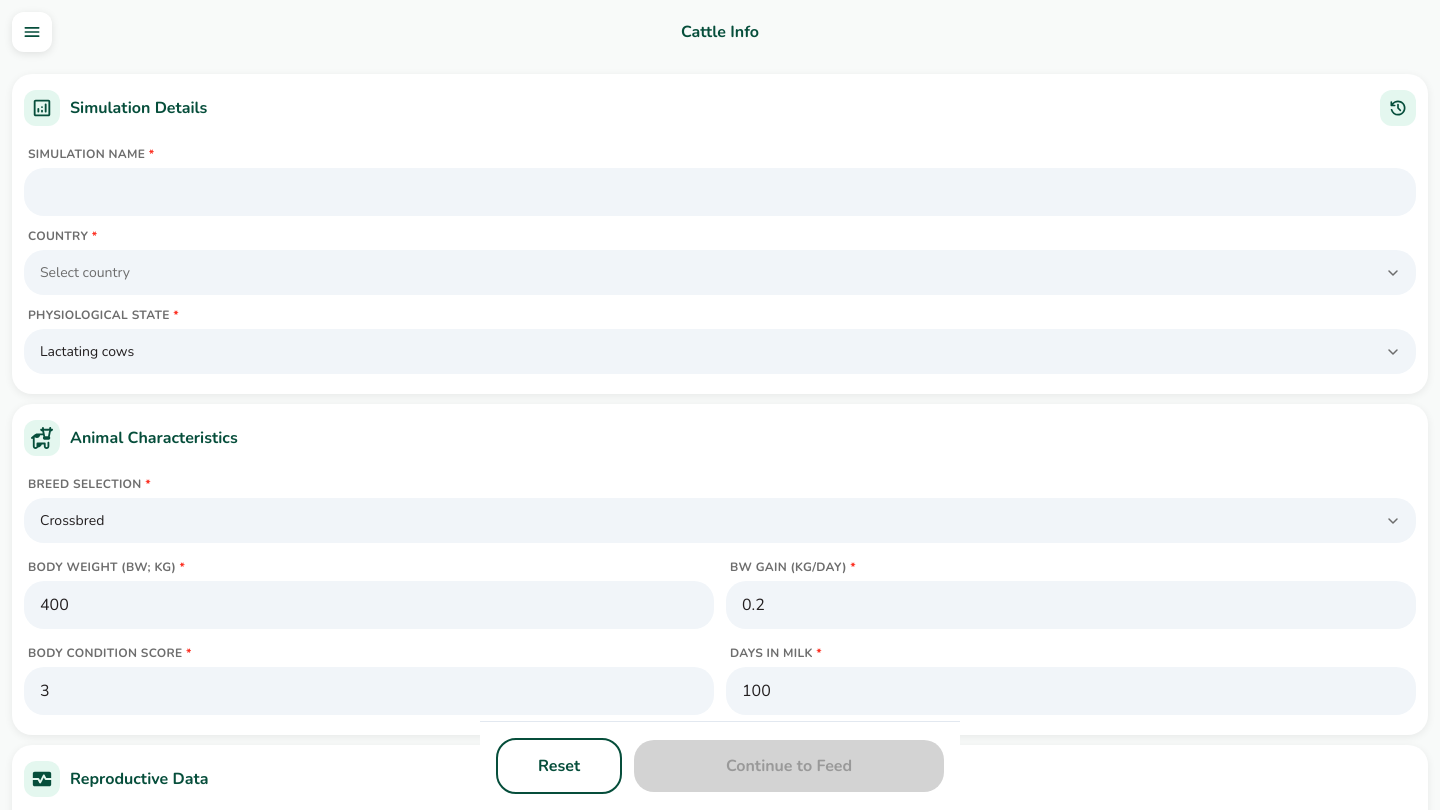
Cattle Info — field validation handlers › handleBodyWeight: flags out-of-range against the spec (Lactating 250-720) but keeps the typed value, clears the error back in range
Expected: the button named "Simulation history" is shown, x1=1380 y1=90 x2=1416 y2=126
Step 1. Replace the text in the number field labelled "Body Weight (BW; kg) *" with "800" → (369,605), box x1=24 y1=581 x2=714 y2=629
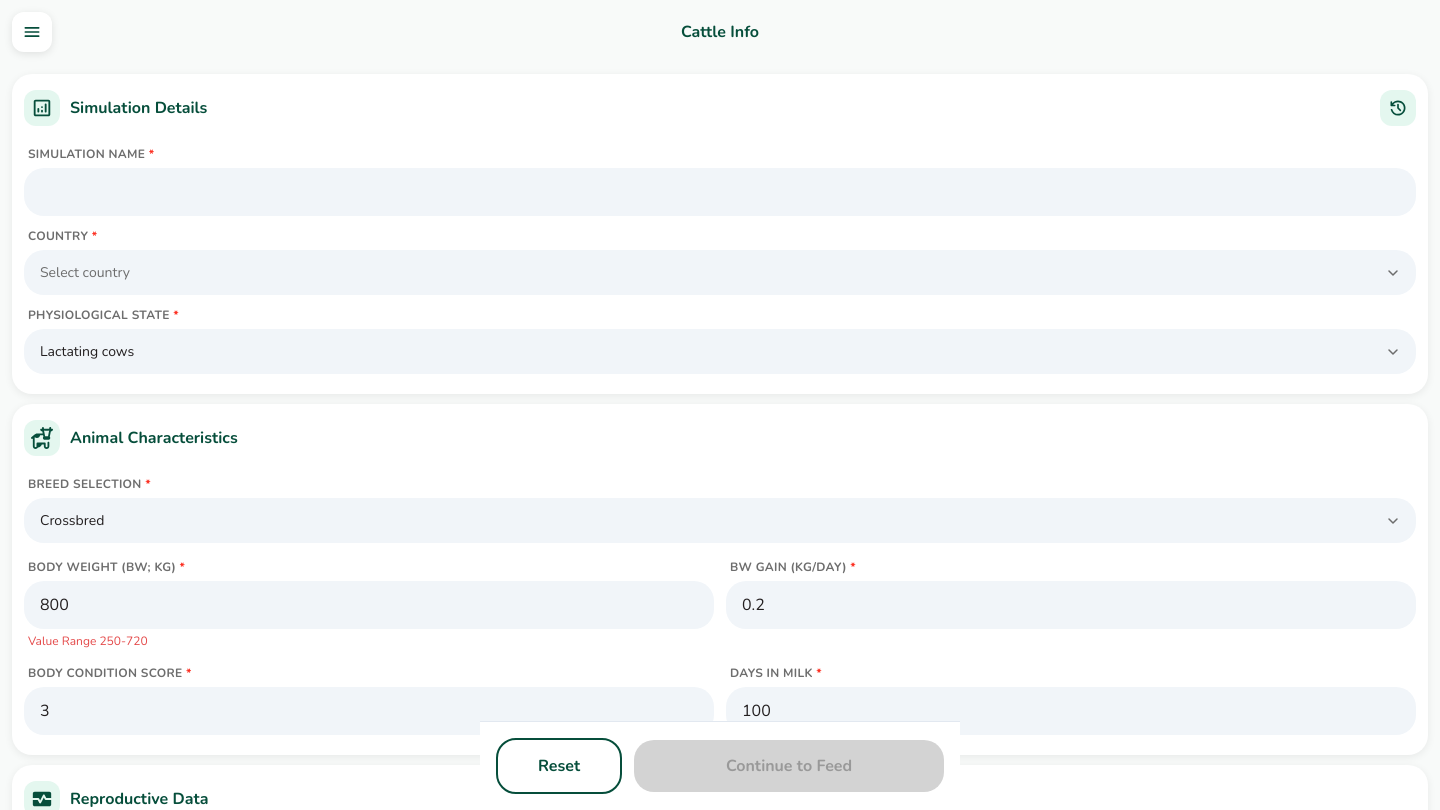
Now the text "Value Range 250-720" is shown, box x1=28 y1=633 x2=148 y2=649
Step 2. Replace the text in the number field labelled "Body Weight (BW; kg) *" with "500" → (369,605), box x1=24 y1=581 x2=714 y2=629
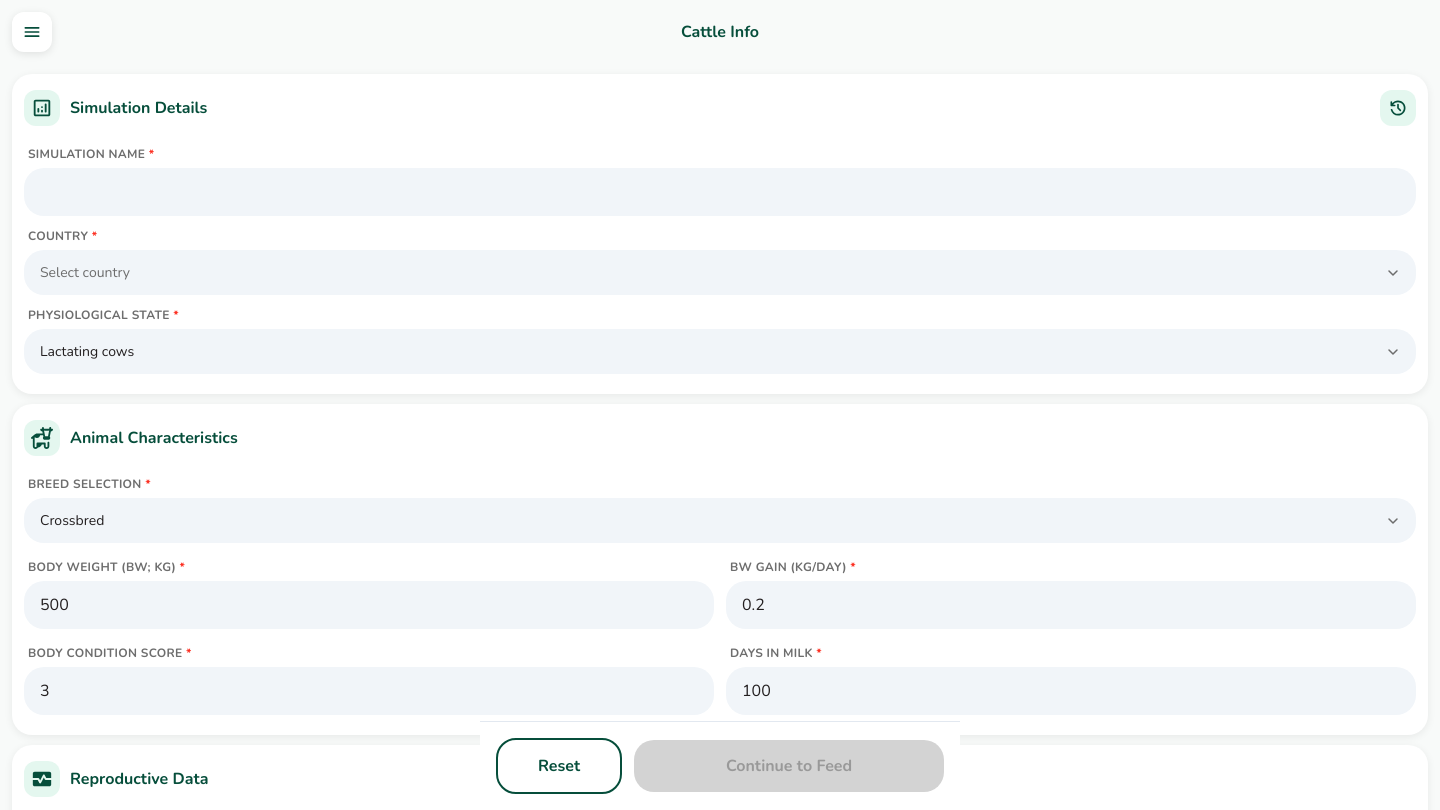
Now the text "Value Range 250-720" is gone
